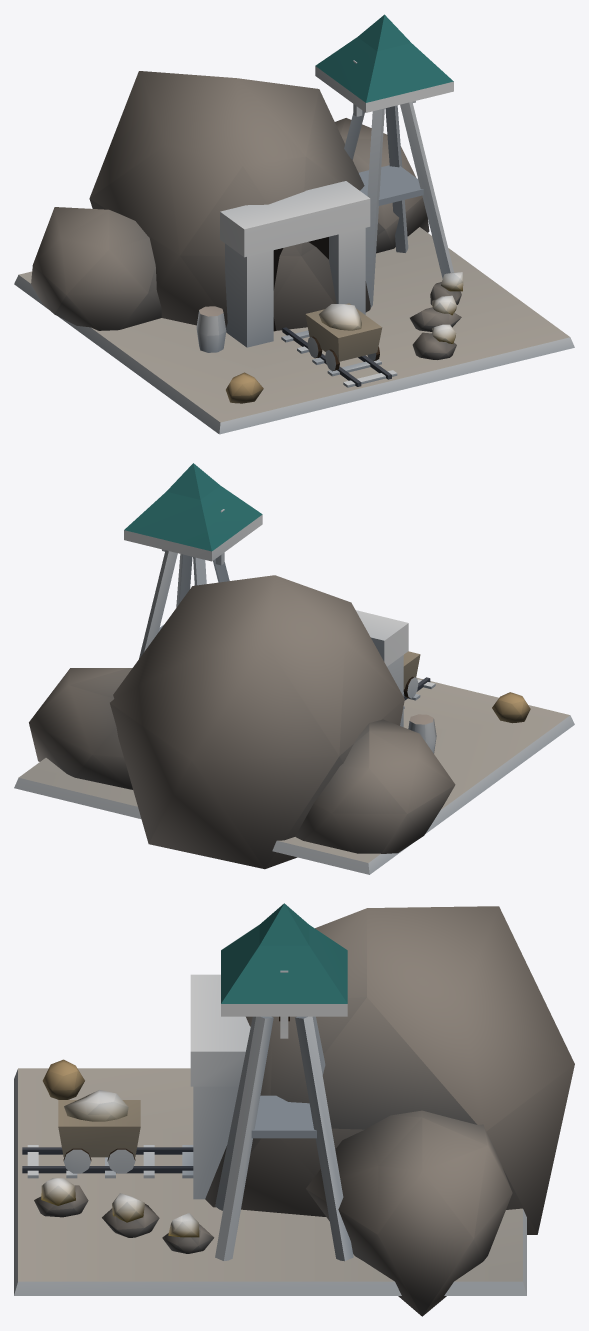
File: goldmine_t3.glb
The picture shows the model from 3 angles, top to bottom: view 1: azimuth 30°, elevation 25°; view 2: azimuth 150°, elevation 25°; view 3: azimuth 270°, elevation 25°; orthographic projection. The views are drawn at different scales.
Parts seen in each view (by area): view 1: goldmine_t3; view 2: goldmine_t3; view 3: goldmine_t3.
Part boxes in pixels (bbox=[...]): goldmine_t3: bbox=[14, 14, 574, 434]; goldmine_t3: bbox=[14, 463, 574, 874]; goldmine_t3: bbox=[14, 903, 574, 1316].
Size of the model in its own units: 2.04 by 1.48 by 2.03.
